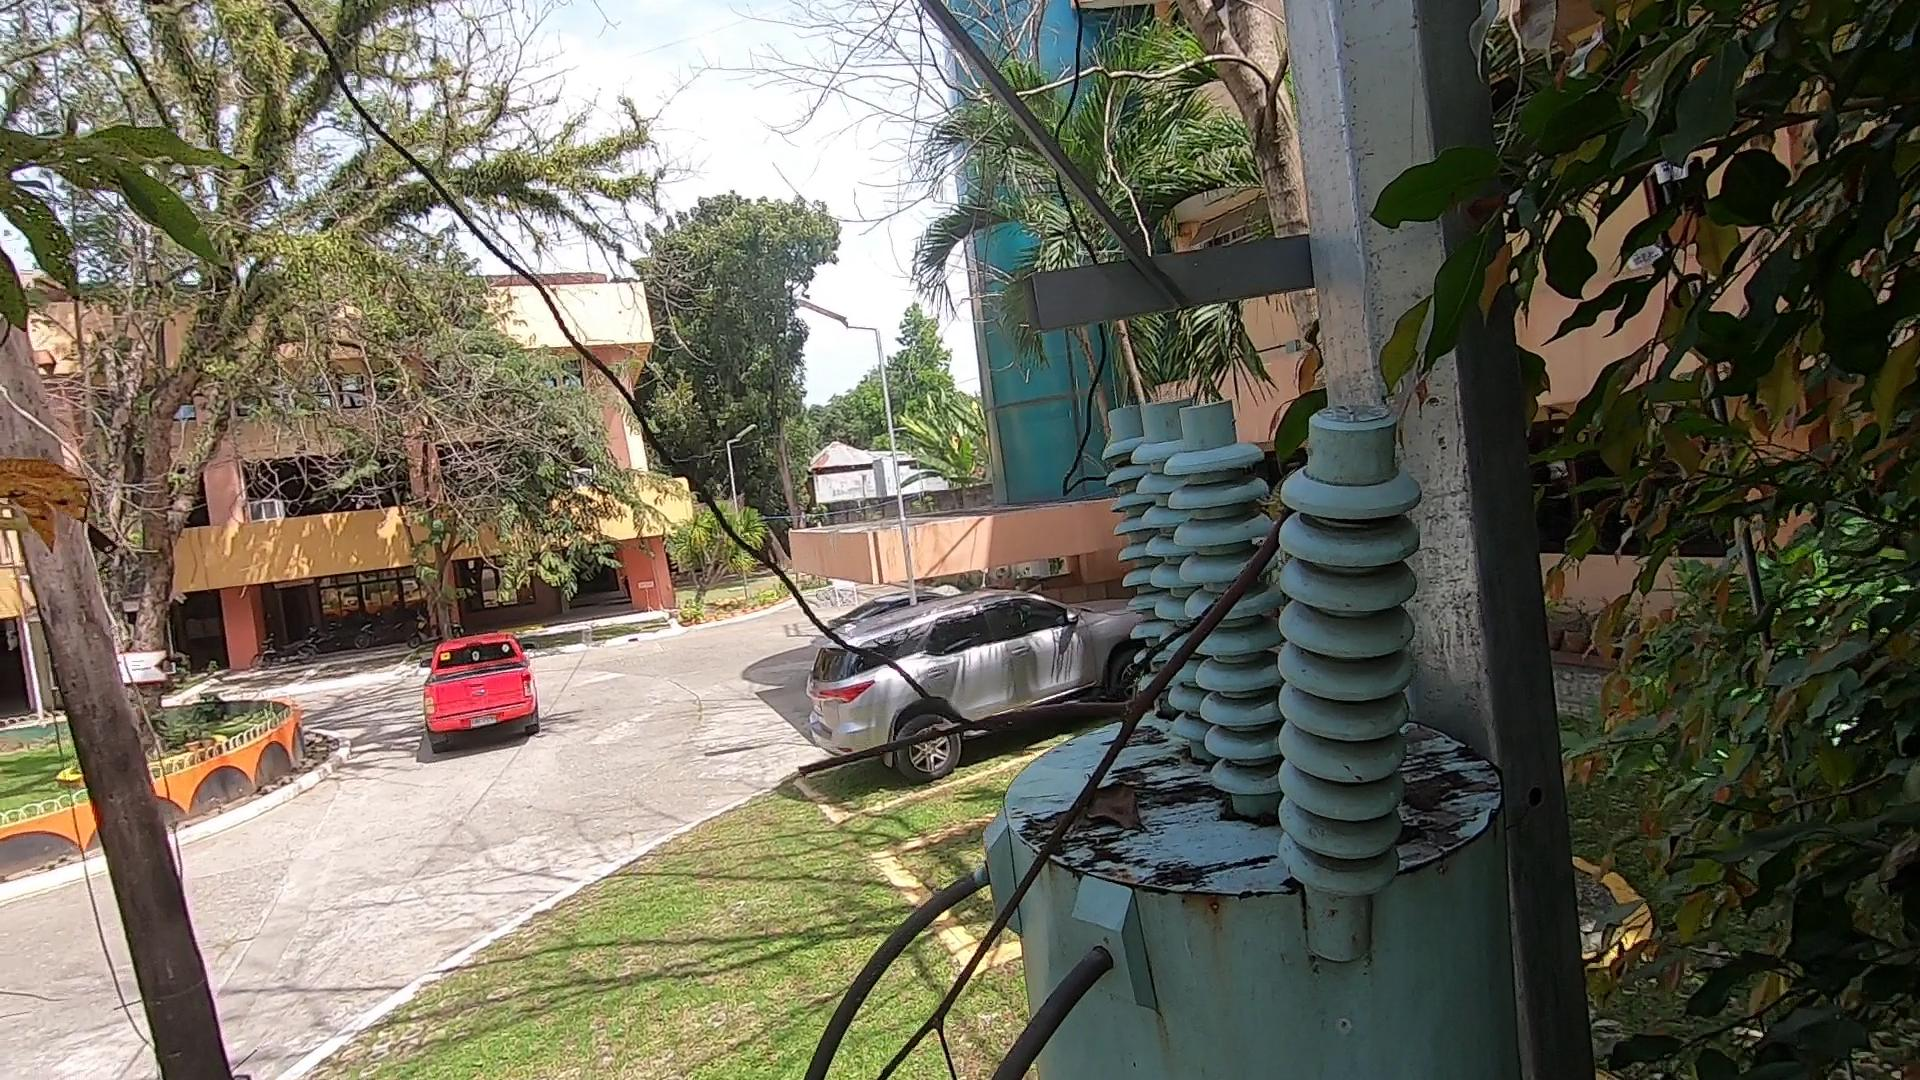leaf: (1022, 752, 1174, 862)
tree branch: (758, 405, 1352, 1080)
